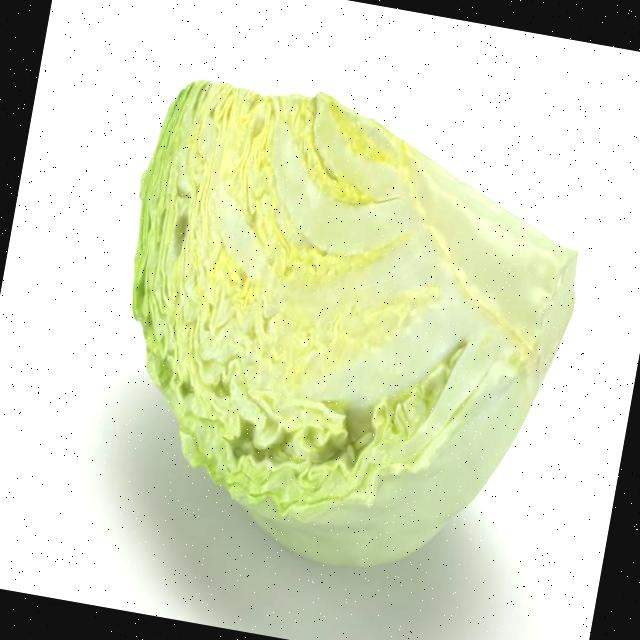cabbage: (84, 53, 606, 602)
